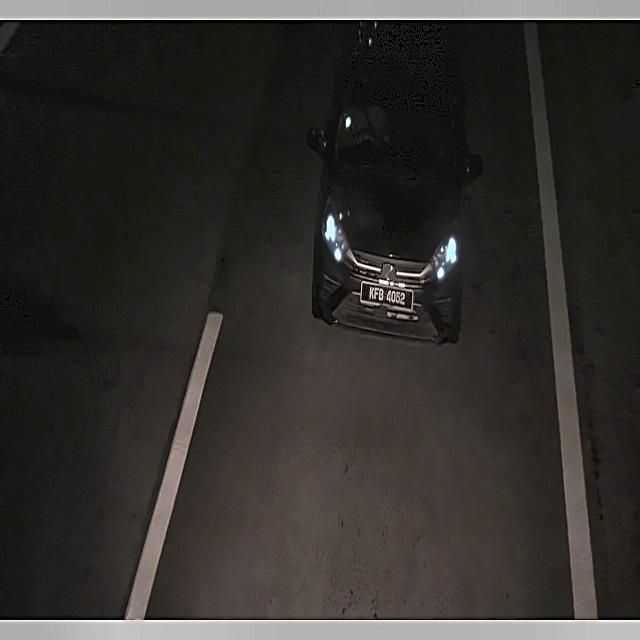car: (354, 277, 420, 318)
